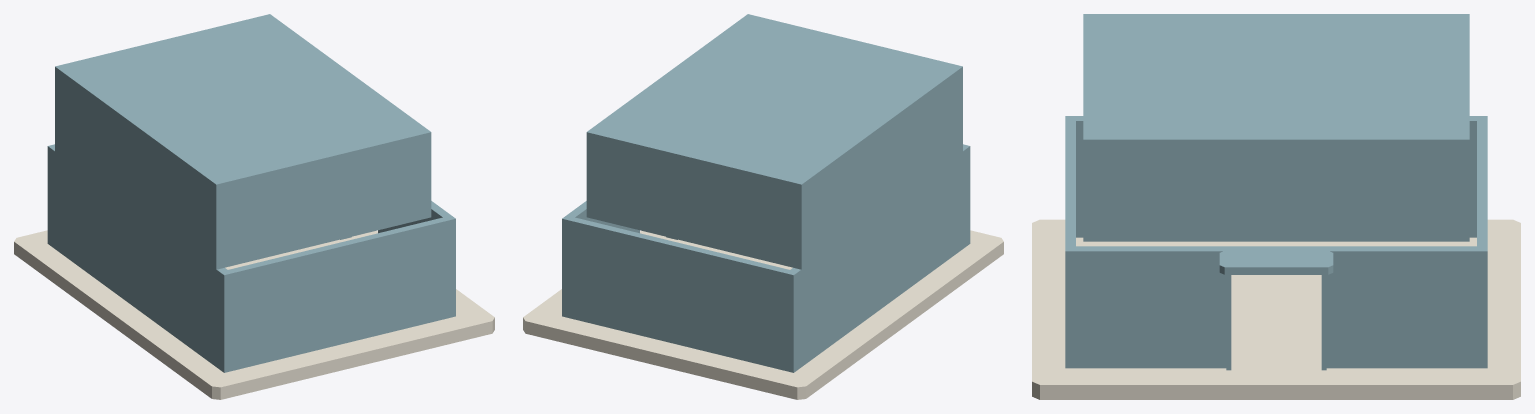
Rendered from Frontier_Bunker_v4_ShadowProxy.glb.
3 views of the same model, side by side, from view 1: azimuth 30°, elevation 25°; view 2: azimuth 150°, elevation 25°; view 3: azimuth 270°, elevation 25° (orthographic). The views are drawn at different scales.
Parts seen in each view (by area): view 1: Frontier_Bunker_v4_ShadowProxy / Roof, Frontier_Bunker_v4_ShadowProxy / Structure, Frontier_Bunker_v4_ShadowProxy / Foundation; view 2: Frontier_Bunker_v4_ShadowProxy / Roof, Frontier_Bunker_v4_ShadowProxy / Structure, Frontier_Bunker_v4_ShadowProxy / Foundation; view 3: Frontier_Bunker_v4_ShadowProxy / Roof, Frontier_Bunker_v4_ShadowProxy / Structure, Frontier_Bunker_v4_ShadowProxy / Foundation, Frontier_Bunker_v4_ShadowProxy / Entrance modules.
Part boxes in pixels (left/top/right/bottom): Frontier_Bunker_v4_ShadowProxy / Roof: left=55, top=14, right=431, bottom=269; Frontier_Bunker_v4_ShadowProxy / Structure: left=47, top=144, right=455, bottom=372; Frontier_Bunker_v4_ShadowProxy / Foundation: left=14, top=230, right=494, bottom=399; Frontier_Bunker_v4_ShadowProxy / Roof: left=586, top=14, right=962, bottom=269; Frontier_Bunker_v4_ShadowProxy / Structure: left=562, top=144, right=970, bottom=372; Frontier_Bunker_v4_ShadowProxy / Foundation: left=523, top=230, right=1003, bottom=399; Frontier_Bunker_v4_ShadowProxy / Roof: left=1083, top=14, right=1469, bottom=241; Frontier_Bunker_v4_ShadowProxy / Structure: left=1065, top=116, right=1487, bottom=368; Frontier_Bunker_v4_ShadowProxy / Foundation: left=1032, top=219, right=1520, bottom=399; Frontier_Bunker_v4_ShadowProxy / Entrance modules: left=1219, top=250, right=1333, bottom=391.
Bounding box in the file's own units: 8 × 5.28 × 10.
